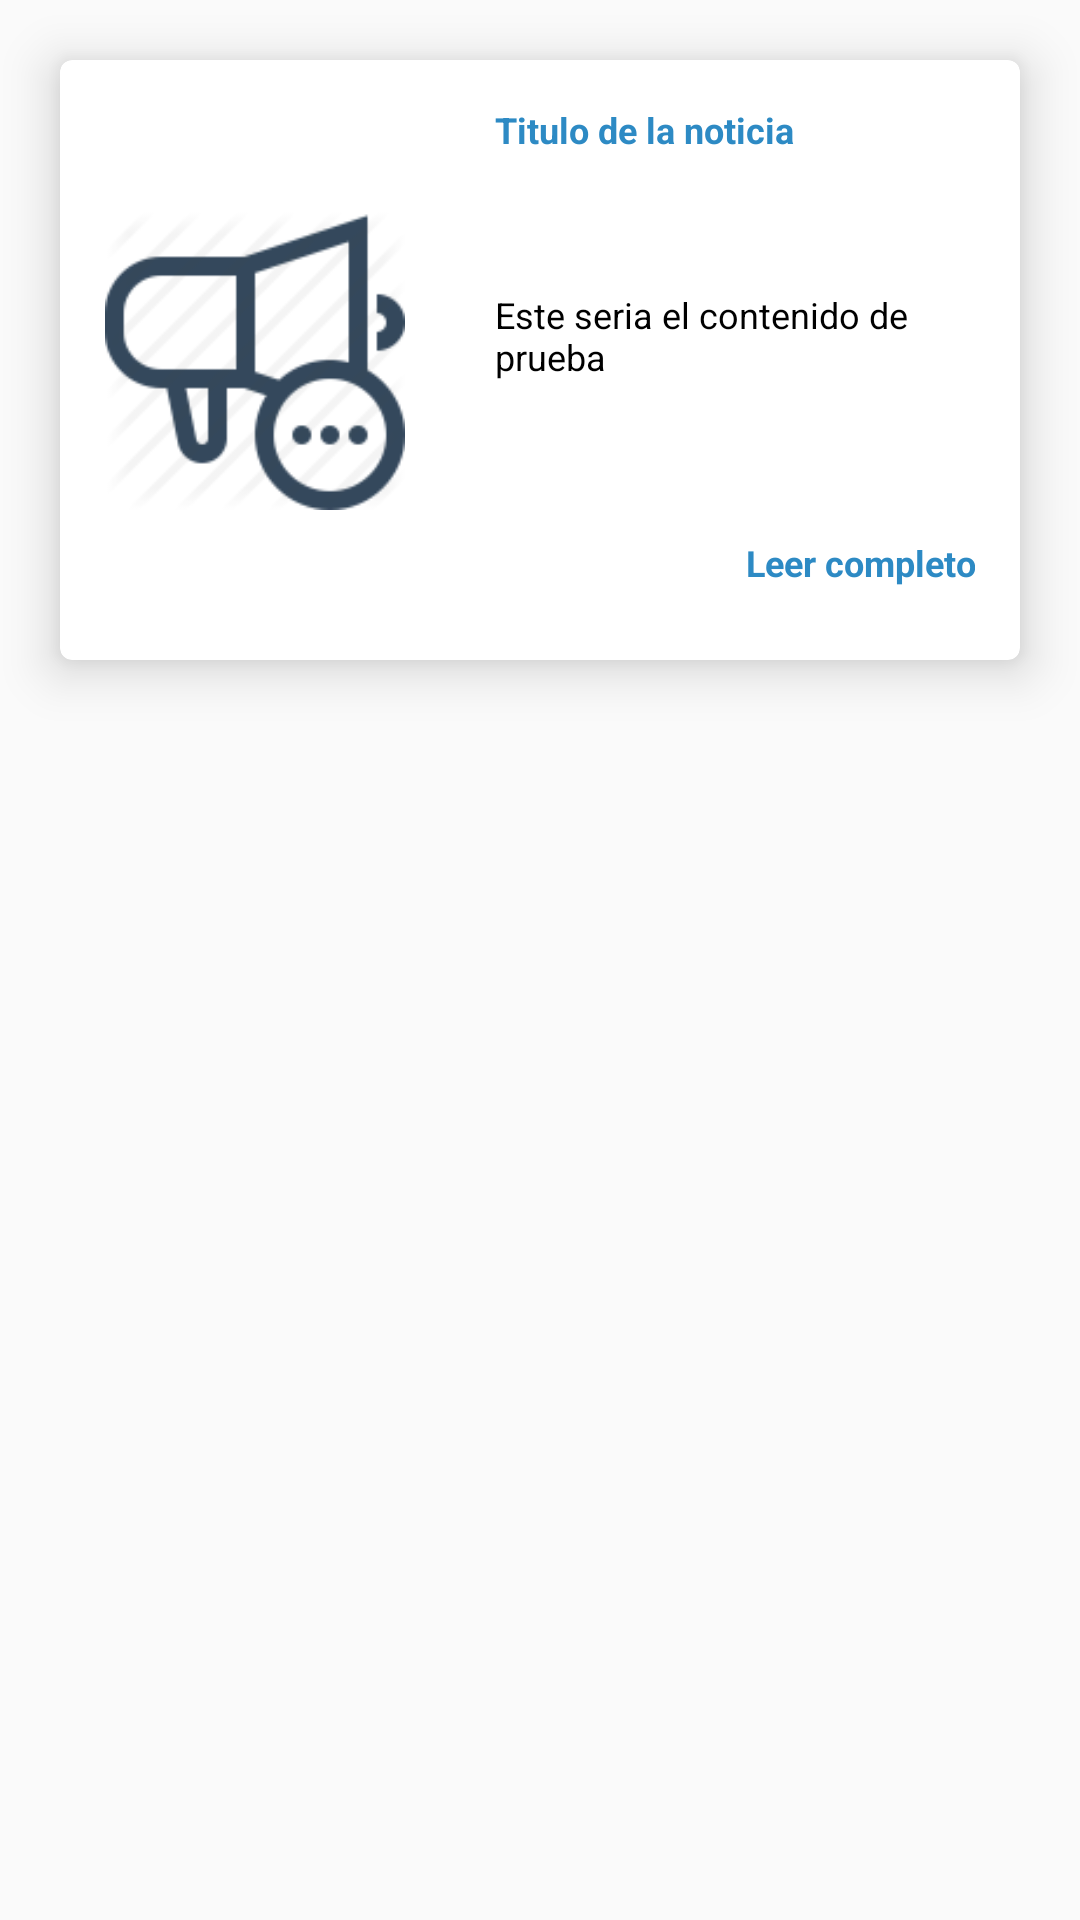

Point at icon controls on the screen. Image size 1080w x 1920h, points as (x=x, y=y).
avisos: (x=255, y=362)
